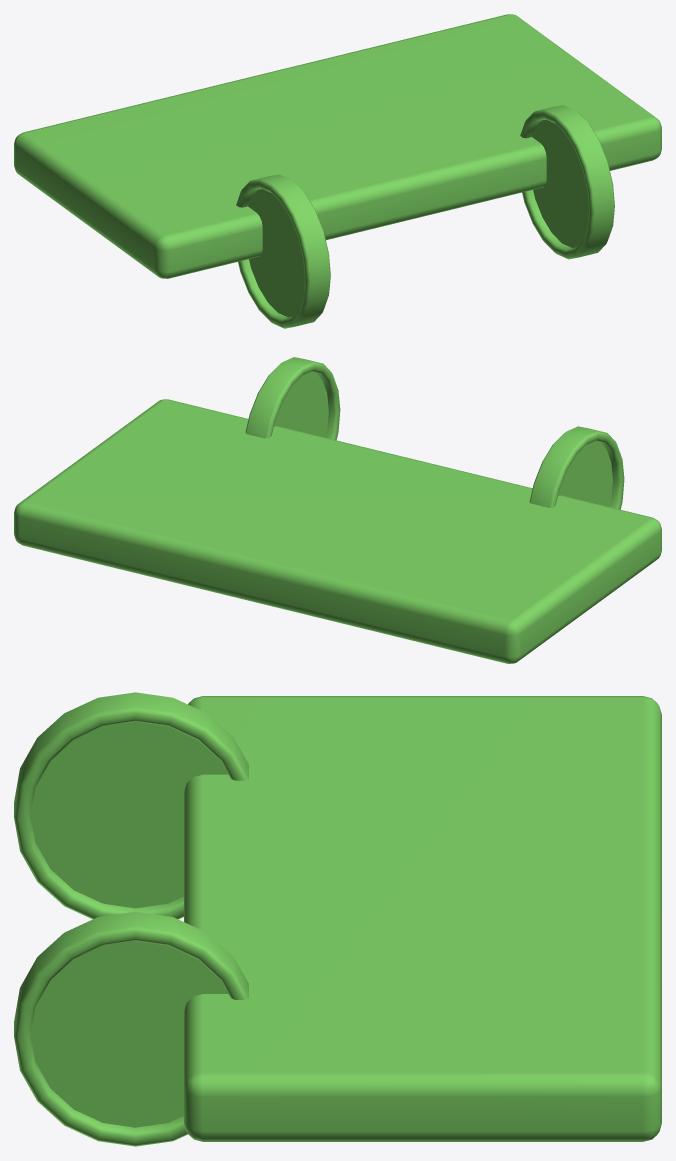
Rendered from Falltrap.fbx.
3 views of the same model, one above another, from view 1: azimuth 30°, elevation 25°; view 2: azimuth 150°, elevation 25°; view 3: azimuth 270°, elevation 25° (orthographic). The views are drawn at different scales.
Visible parts, largest first — view 1: polySurface40; view 2: polySurface40; view 3: polySurface40.
Part boxes in pixels (left/top/right/bottom): polySurface40: left=14, top=14, right=661, bottom=328; polySurface40: left=14, top=357, right=661, bottom=663; polySurface40: left=14, top=692, right=661, bottom=1146.
Bounding box in the file's own units: 2.36 × 0.6204 × 1.65.
